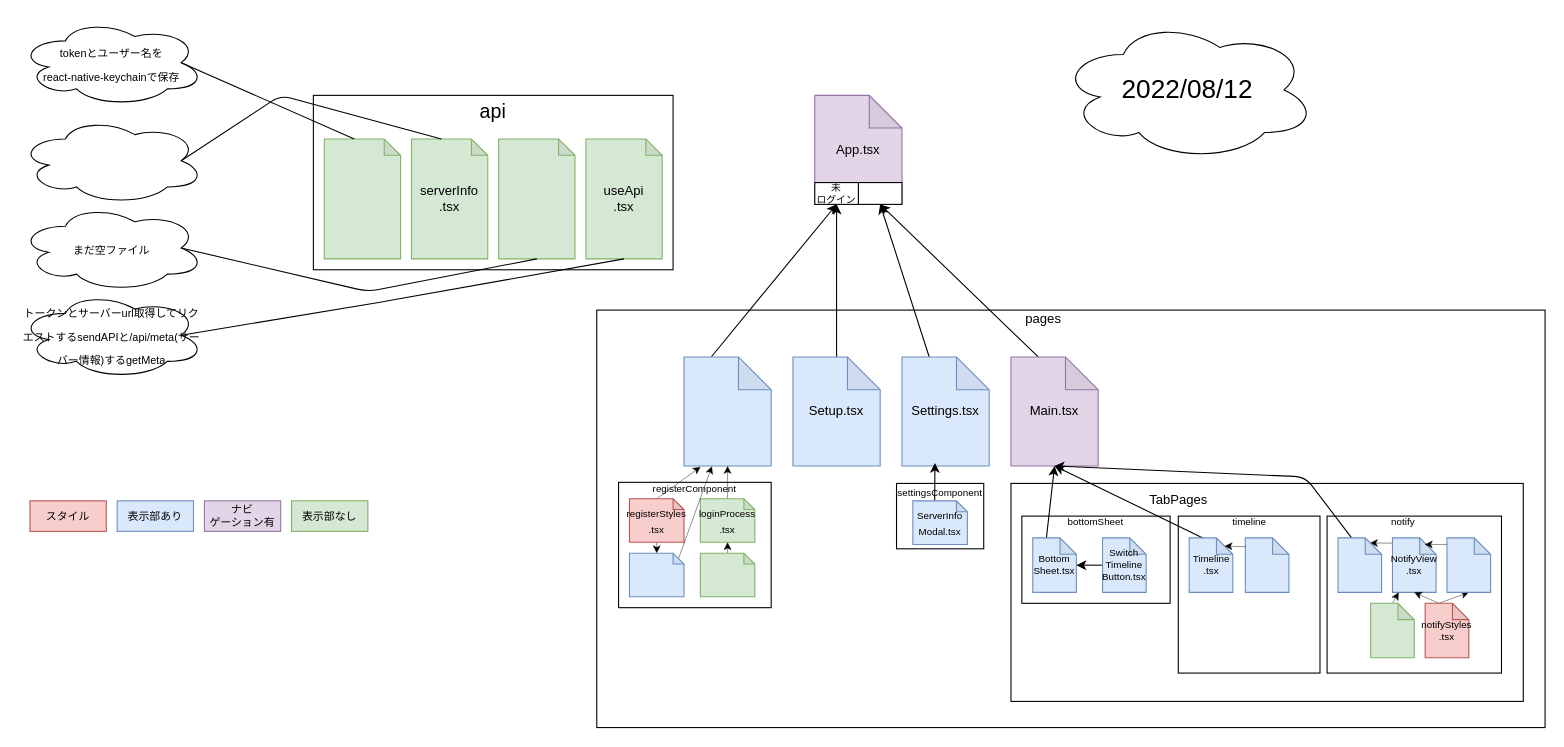
The diagram is 1564 pixels wide and 747 high, and some of its shapes have lost their labels. The shapes that lost their labels are listed below. From the top down, each one's centre as x and y in pixels, then its label:
pixel 111 160: /api/meta(サーバー情報)を Realmで保存
pixel 362 198: tokenManage .tsx
pixel 536 198: deviceInfo .tsx
pixel 879 192: ログイン済み
pixel 727 411: Register.tsx
pixel 656 574: ManualServer Modal.tsx
pixel 727 574: openBrowser .tsx
pixel 1266 564: NoteView .tsx(予定)
pixel 1359 564: Notify .tsx
pixel 1468 564: ActionRing .tsx
pixel 1392 630: allocation .tsx
